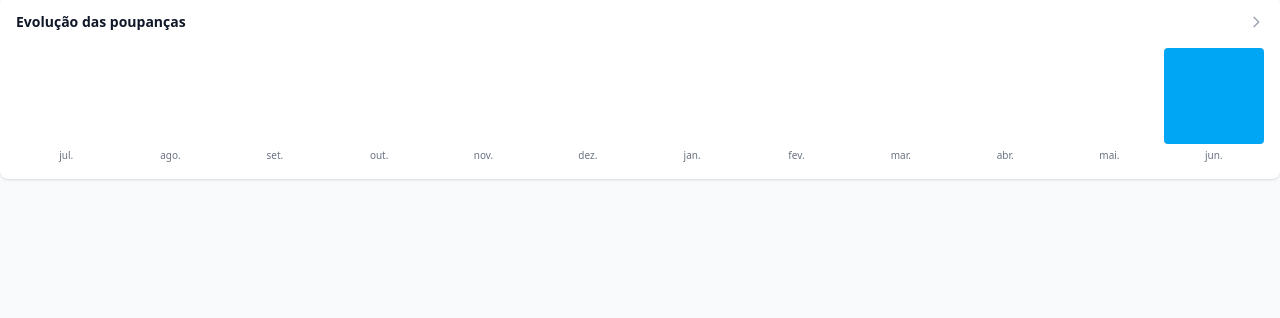
Test: SavingsTrend — month readout › never navigates when a column is tapped with the pointer
When I pointer-tap the June column
What coordinates should you click on to do the following:
click the 12th button with test id "trend-column"
I would click on:
 (1214, 96)
Its box is [1164,48,1264,144].
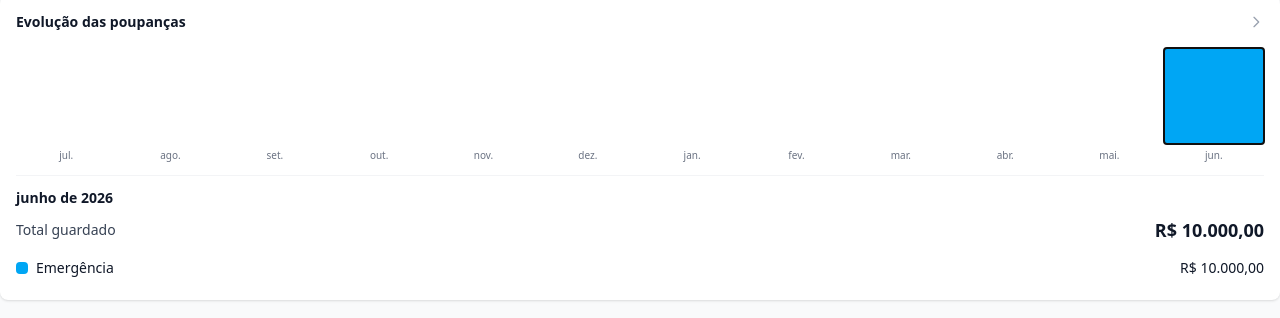
expect the element with test id "readout" is shown: met, box [16,175,1264,284]
